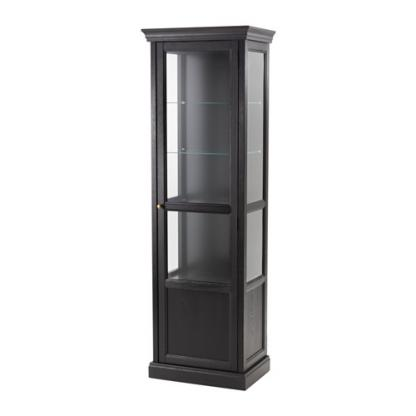Cabinet: (137, 23, 278, 396)
